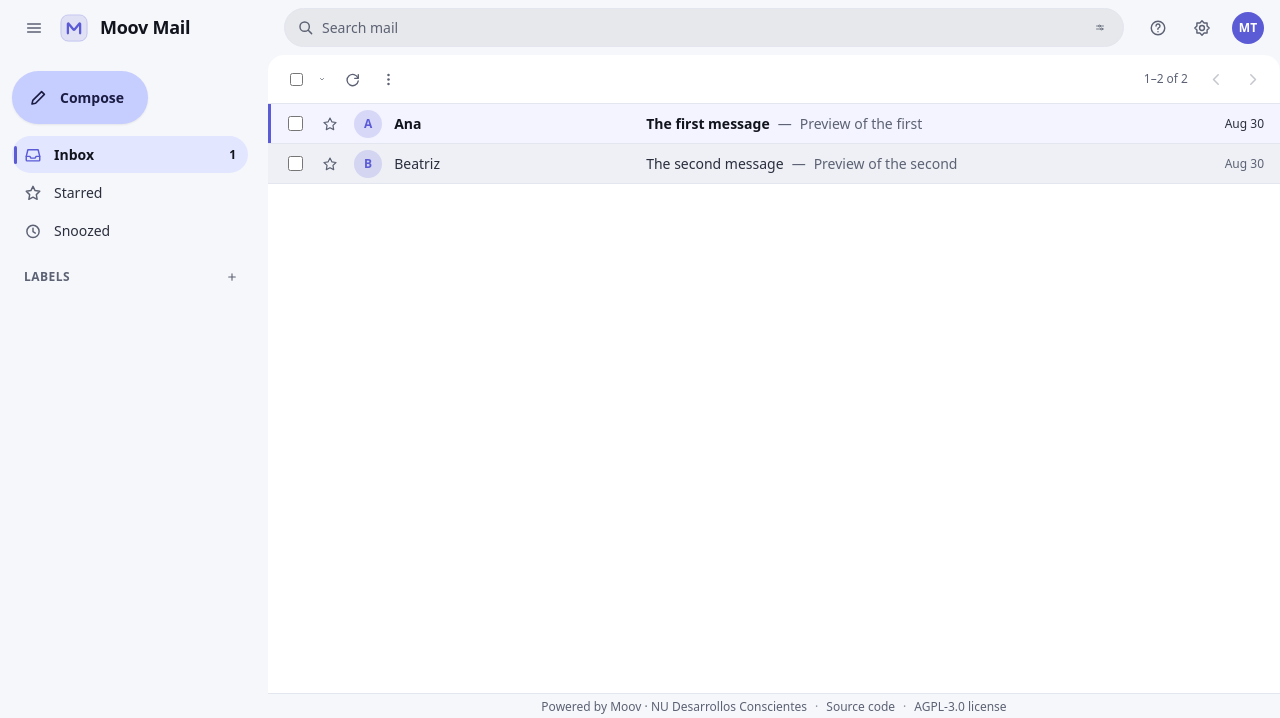
MailScreen — the shell's canary › opens quick settings from the gear, and the full surface from there
The image size is (1280, 718).
Expected: the text "The first message" is shown, top-left (646, 113), bottom-right (770, 134)
Click the button named "Settings" at coordinates (1202, 28), box top-left (1184, 10), bottom-right (1220, 46)
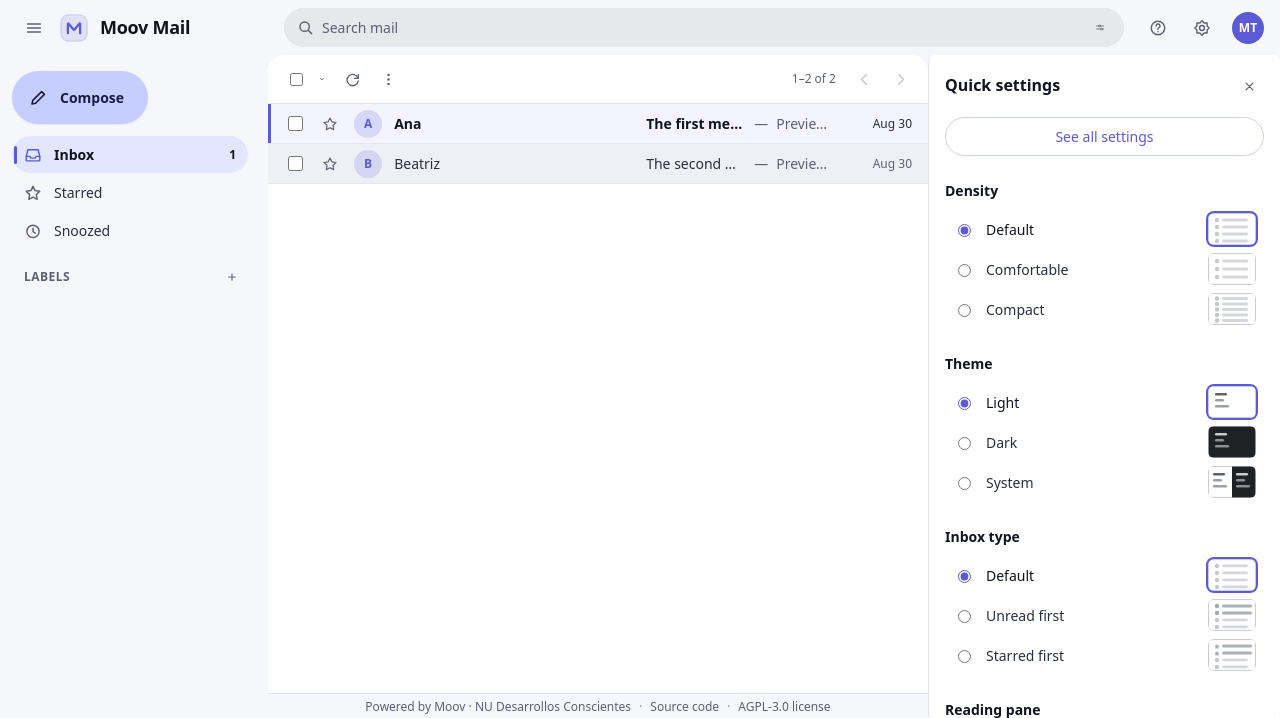
Expected: the text "The first message" is shown, top-left (646, 113), bottom-right (746, 134)
Click the button "See all settings" at coordinates (1104, 136), box top-left (945, 117), bottom-right (1264, 156)
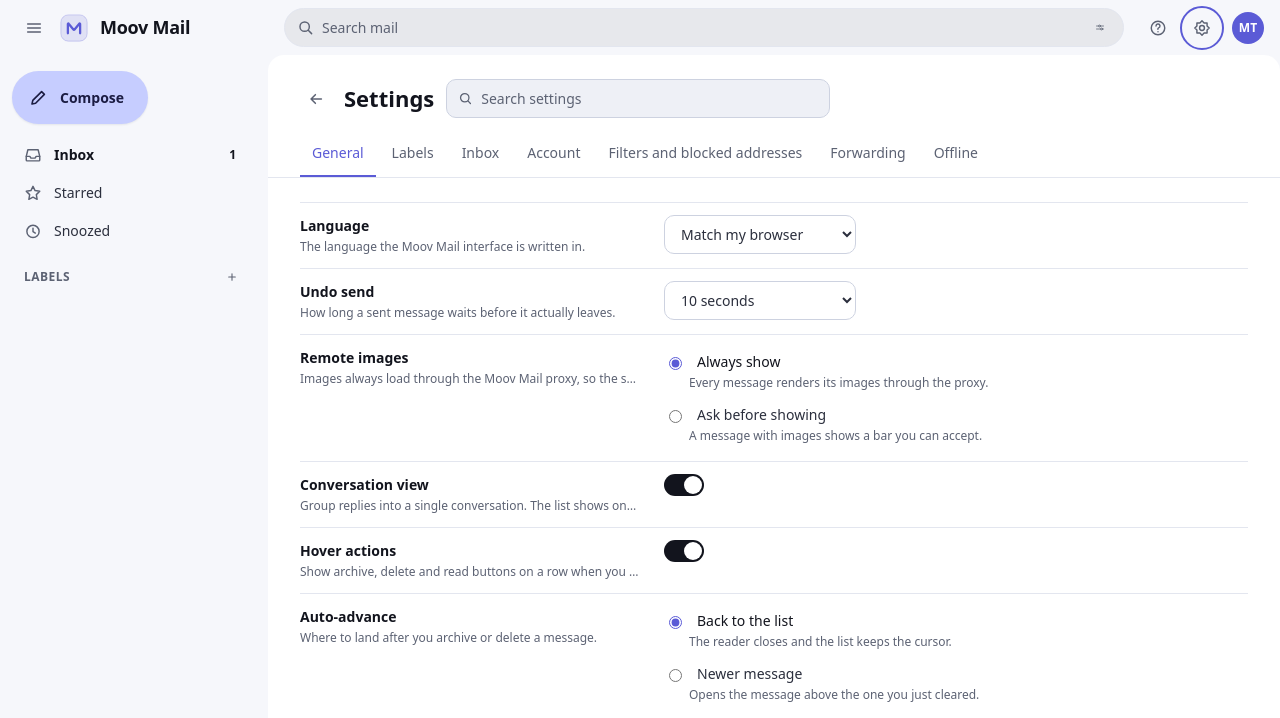
Now the heading "Settings" is shown, box top-left (344, 85), bottom-right (434, 112)
Now the heading "Quick settings" is gone
